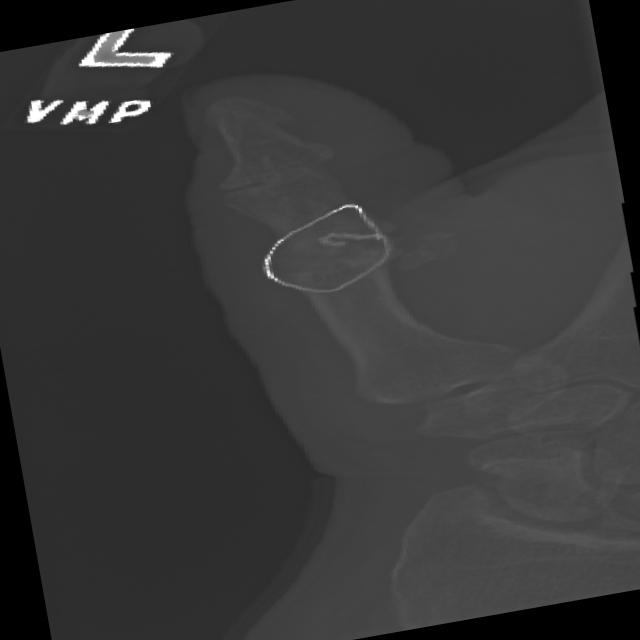fingers positive: (258, 198, 466, 328), (174, 62, 330, 184)
